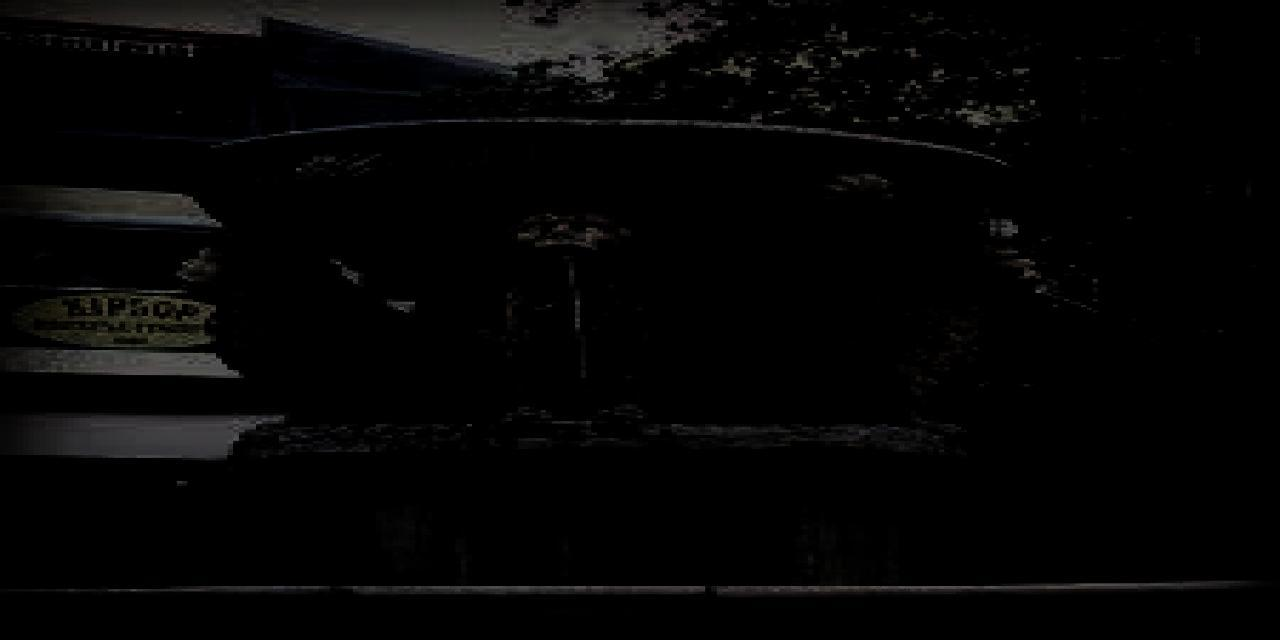Liontaria: (183, 125, 1023, 608)
